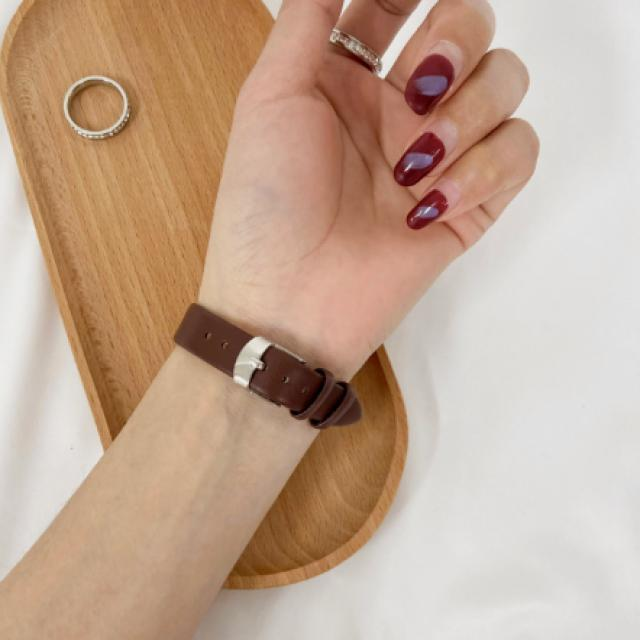Watch: (168, 297, 366, 446)
